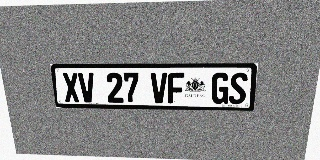2: (106, 73, 123, 103)
7: (122, 73, 140, 103)
F: (168, 73, 184, 103)
G: (211, 73, 230, 104)
S: (228, 73, 248, 104)
V: (78, 73, 96, 102), (151, 73, 167, 103)
X: (62, 73, 80, 102)
